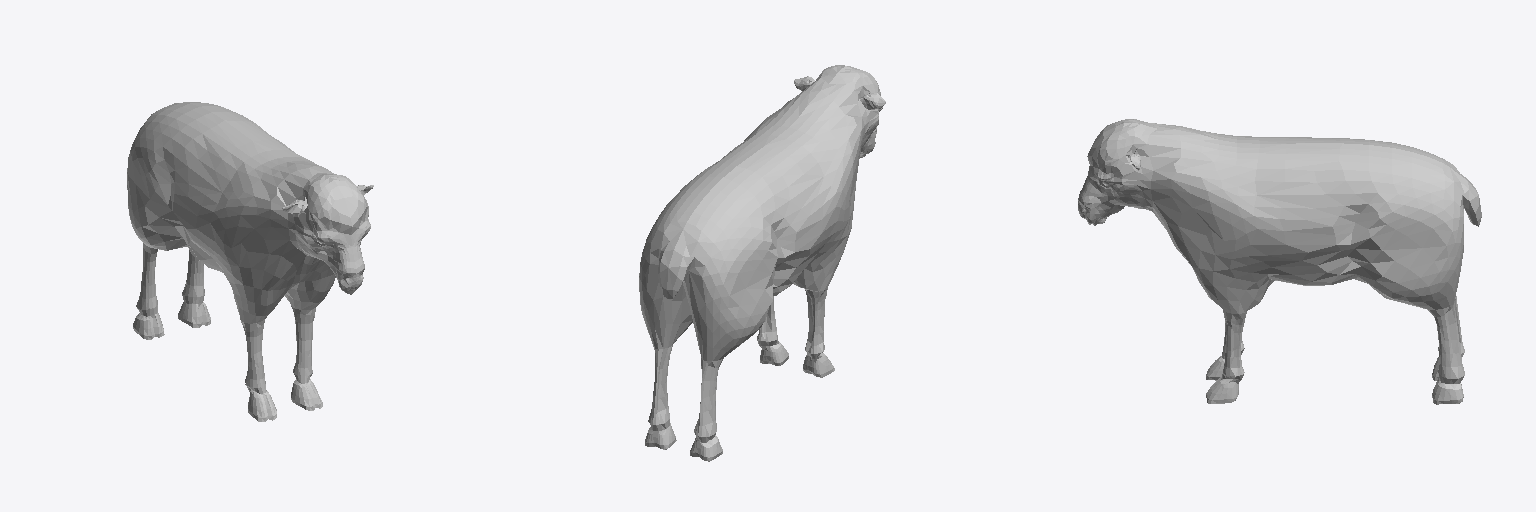
The model's file is sheep.obj.
3 renders of one model, left to right at view 1: azimuth 30°, elevation 25°; view 2: azimuth 150°, elevation 25°; view 3: azimuth 270°, elevation 25°, orthographic.
Parts seen in each view (by area): view 1: shp_body; view 2: shp_body; view 3: shp_body.
Part boxes in pixels (left/top/right/bottom): shp_body: left=127, top=102, right=373, bottom=421; shp_body: left=639, top=65, right=885, bottom=461; shp_body: left=1078, top=119, right=1481, bottom=404.
Bounding box in the file's own units: 0.4098 × 0.9124 × 1.26.